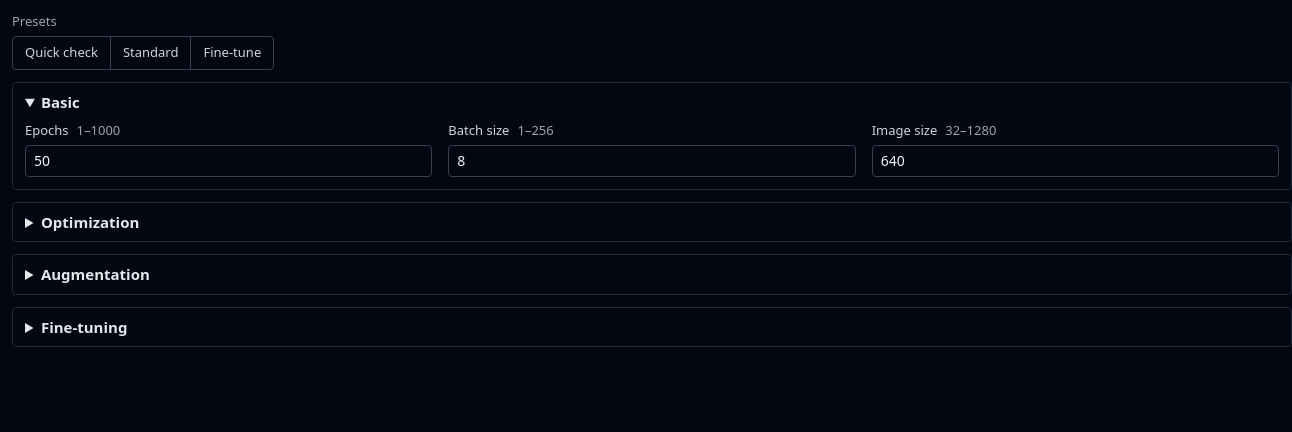
Test: SettingsForm › an empty optional field shows as empty, not as zero
Click the heading "Fine-tuning" at [84, 326], box [41,316,127,336]
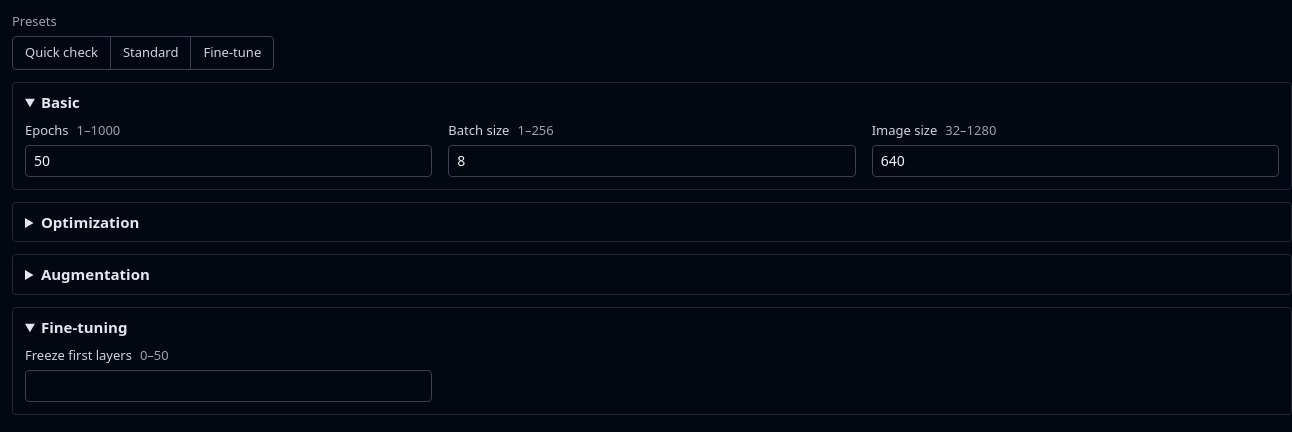
Check: the number field labelled "Freeze first layers" is not empty, box [25,370,432,402]
